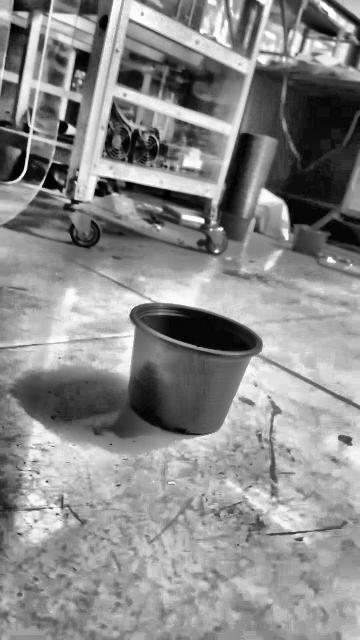pot: (129, 303, 261, 434)
